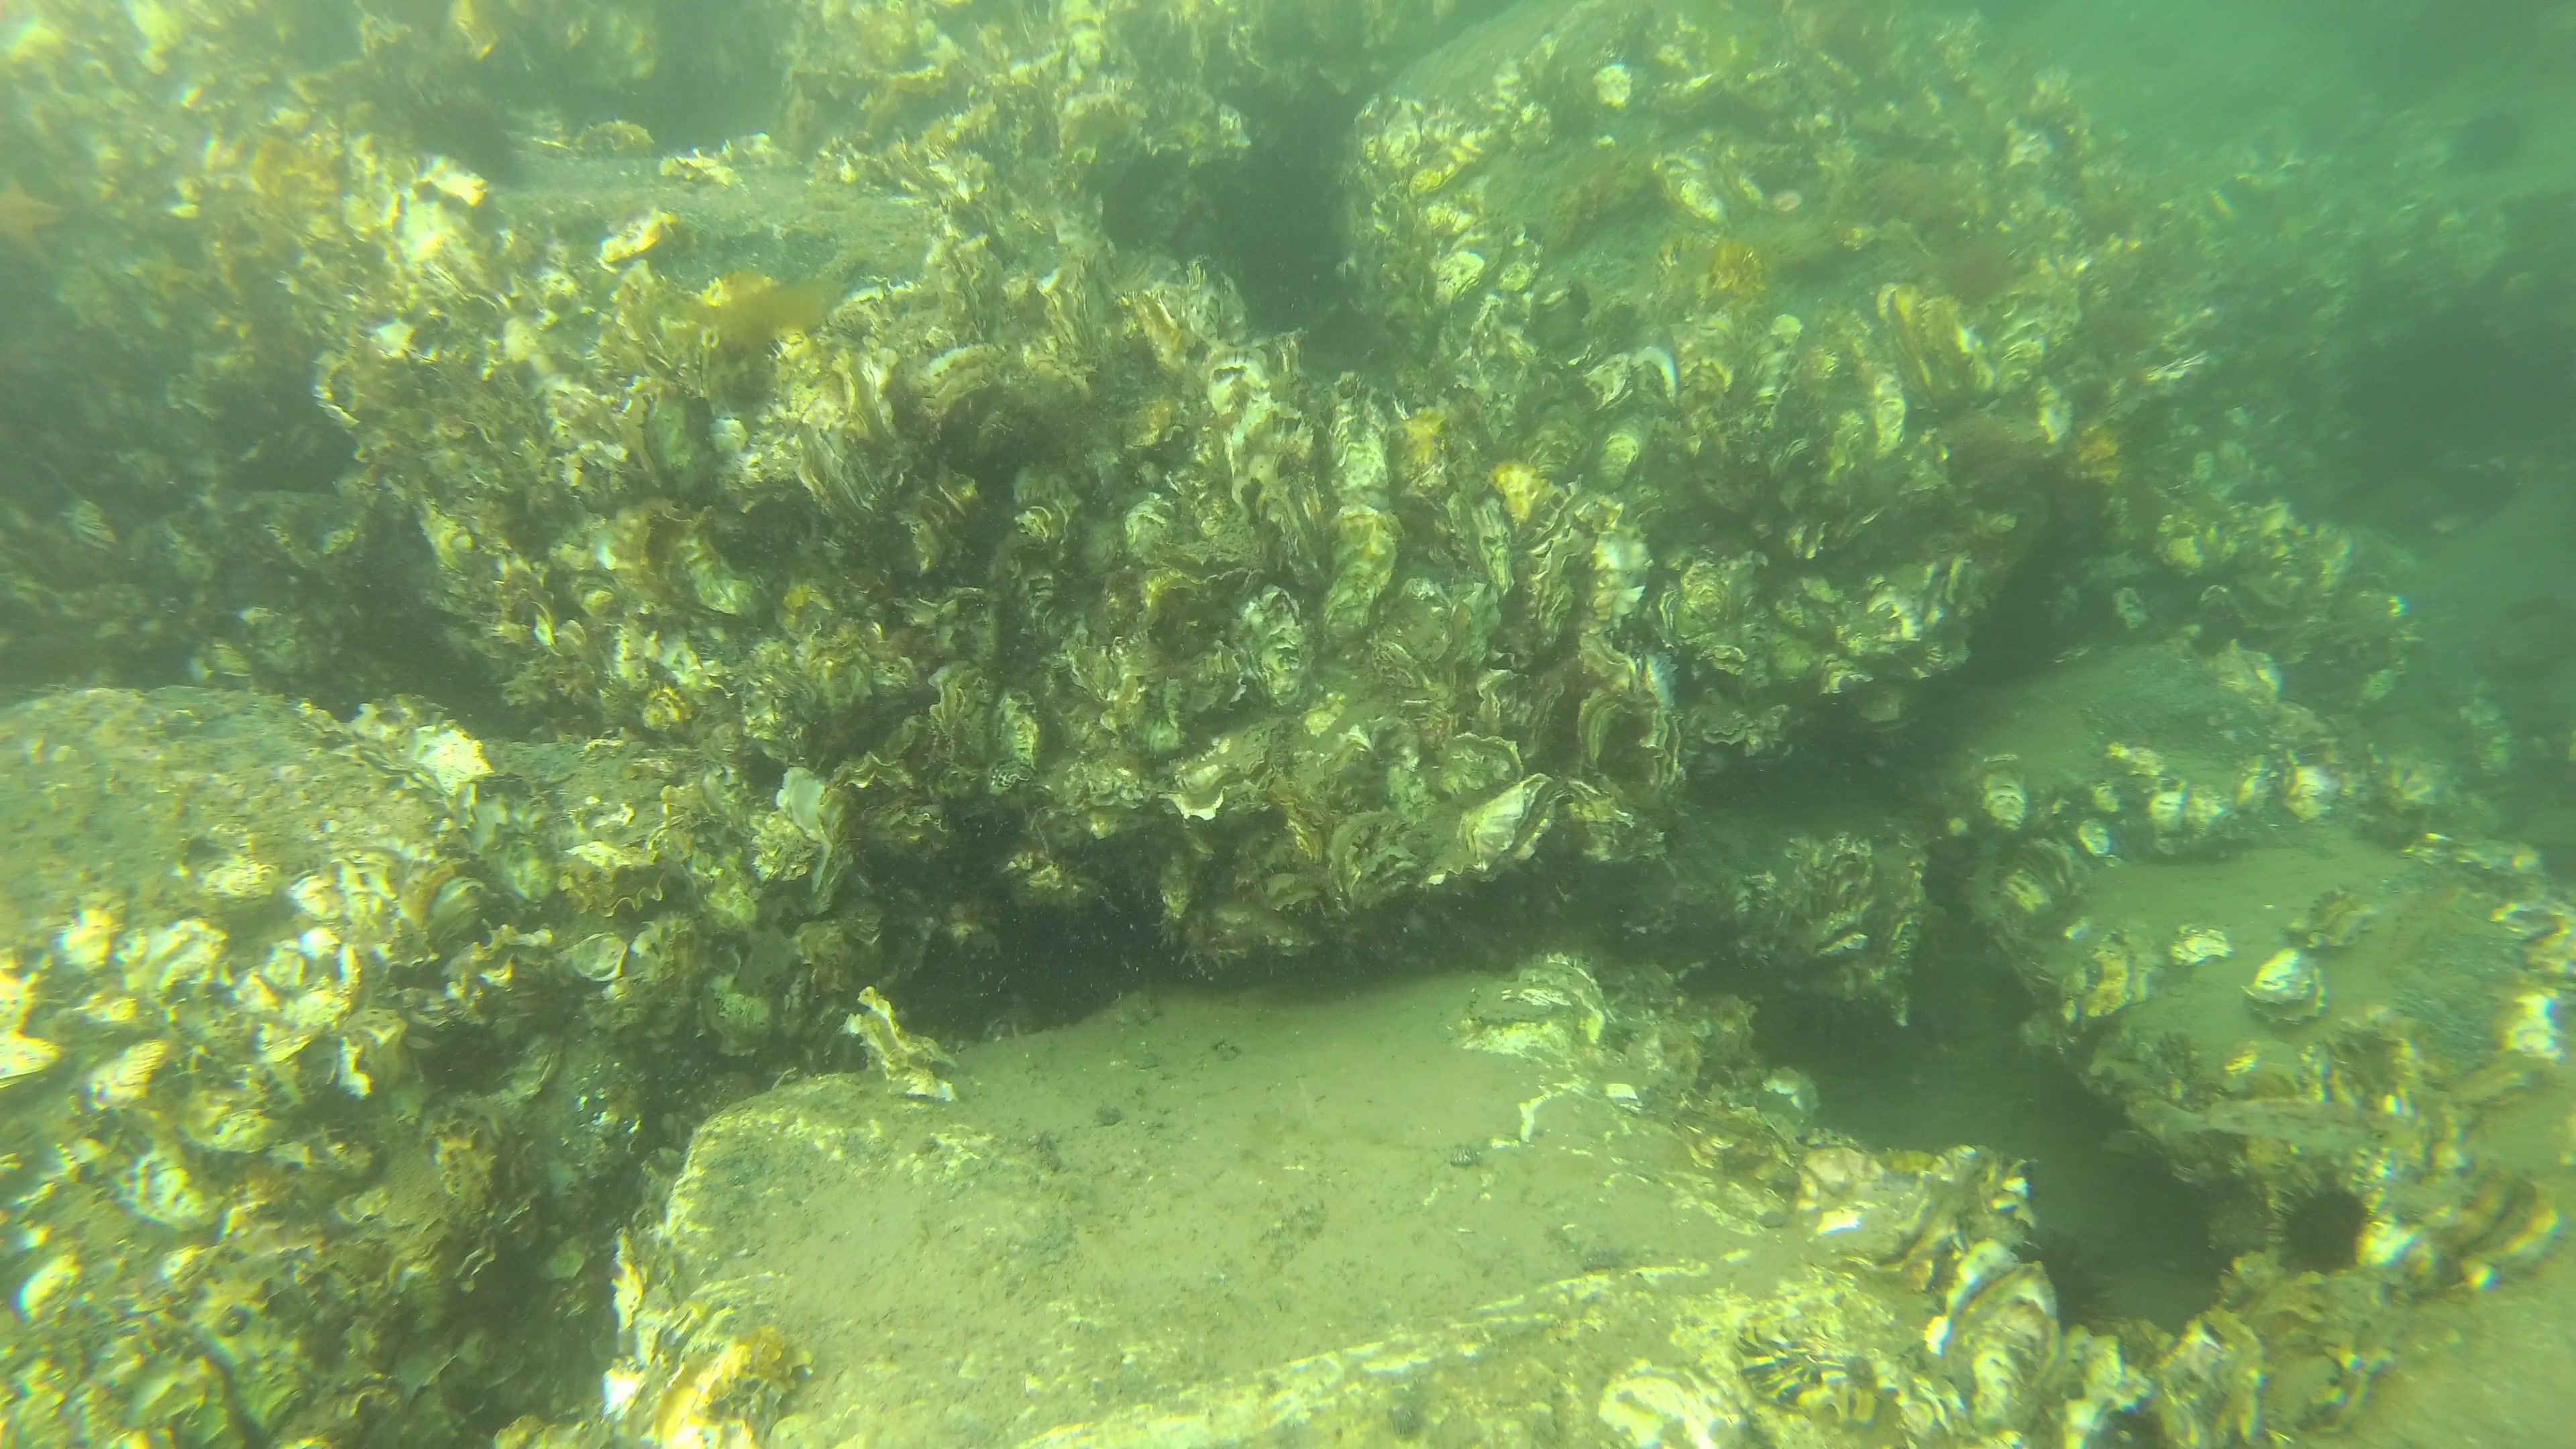echinus: (398, 83, 522, 209), (2270, 1175, 2374, 1277), (2017, 1230, 2120, 1332)
holothurian: (1962, 835, 2008, 939)
